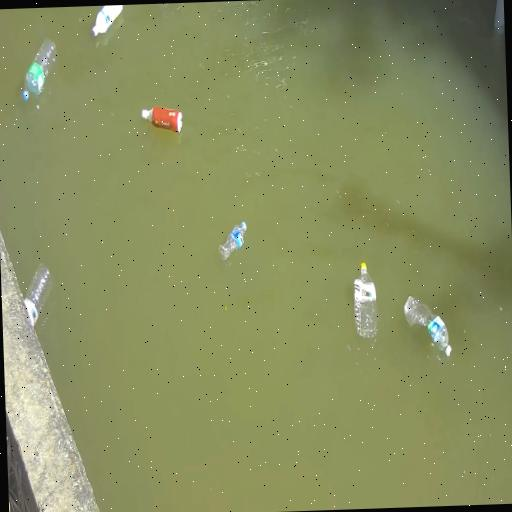plastic: (403, 297, 450, 356), (351, 262, 378, 342), (22, 39, 55, 100), (24, 264, 51, 326), (218, 221, 246, 260), (141, 107, 181, 132), (91, 5, 122, 36)
